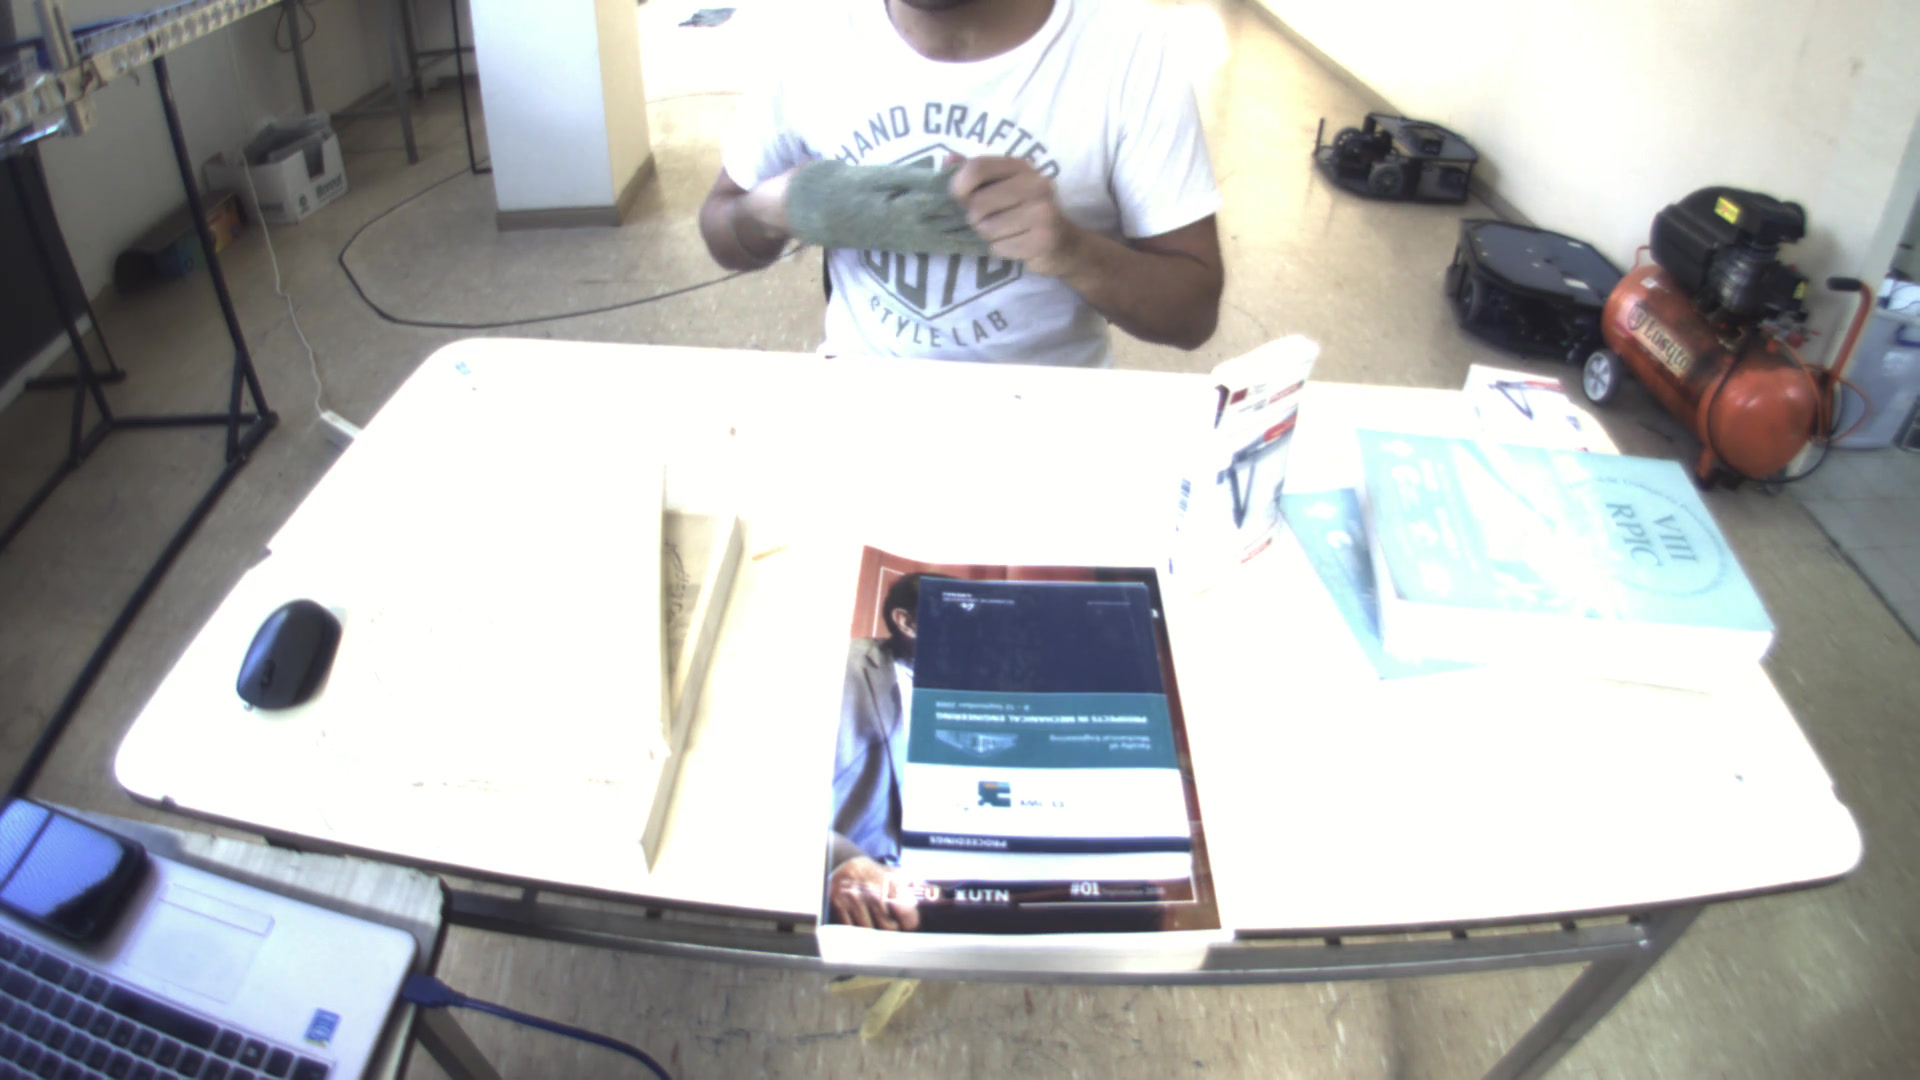hand: (770, 149, 978, 258), (938, 141, 1080, 270)
